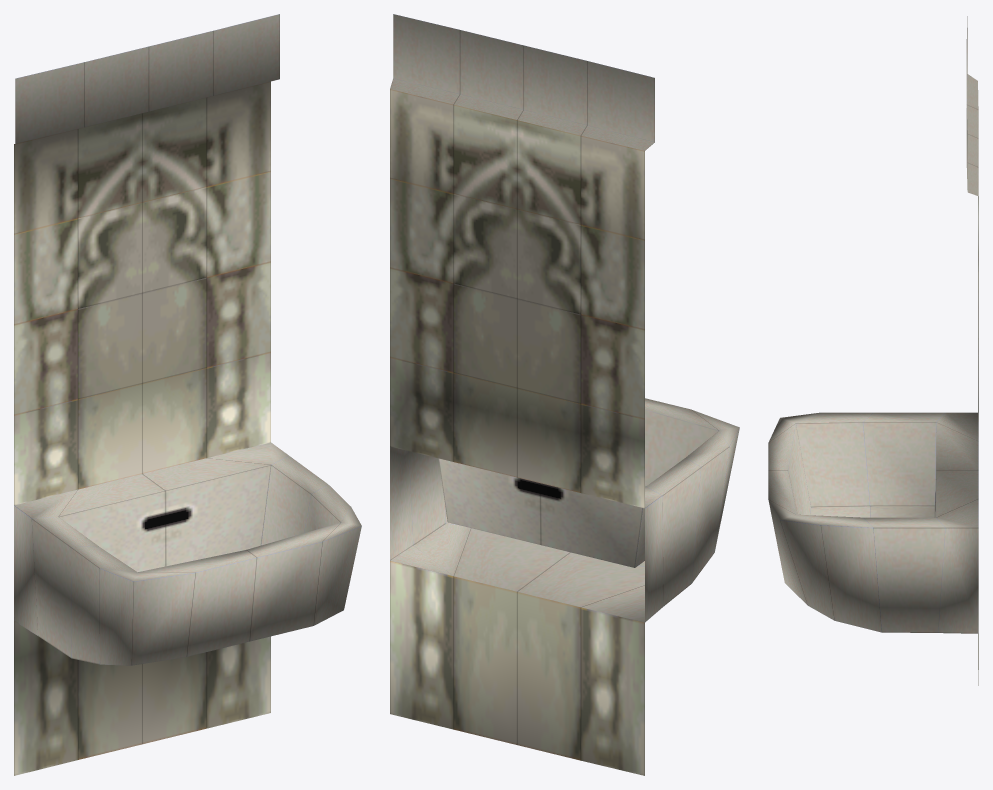
3 renders of one model, left to right at view 1: azimuth 30°, elevation 25°; view 2: azimuth 150°, elevation 25°; view 3: azimuth 270°, elevation 25°, orthographic. The views are drawn at different scales.
Visible parts, largest first — view 1: T1L5M006_12; view 2: T1L5M006_12; view 3: T1L5M006_12.
Boxes of the visible parts, bbox=[...] form: T1L5M006_12: bbox=[14, 14, 361, 775]; T1L5M006_12: bbox=[390, 14, 739, 775]; T1L5M006_12: bbox=[768, 16, 978, 685].
Size of the model in its own units: 0.9199 by 2.33 by 0.6895.
